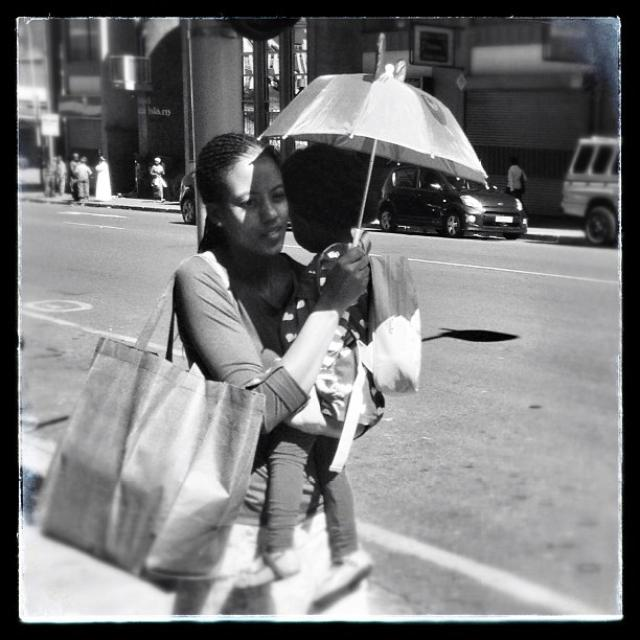Vehicle: (378, 167, 529, 240), (560, 136, 615, 253), (561, 139, 620, 247), (179, 169, 195, 223)
